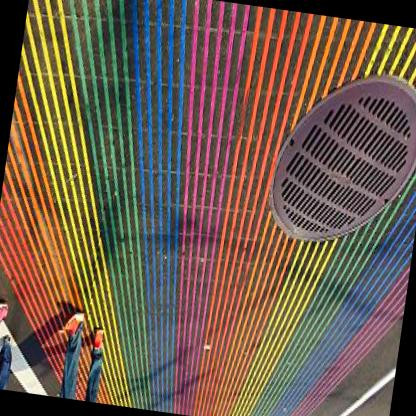manholes: (250, 46, 416, 283)
